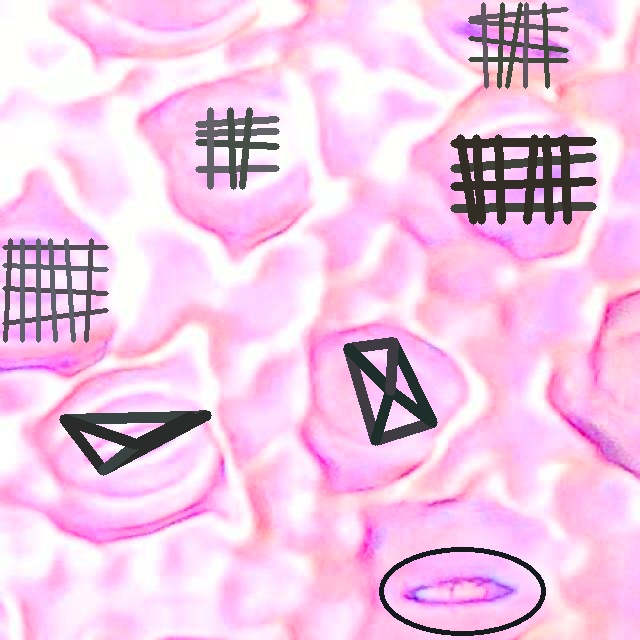open: (377, 546, 546, 636), (451, 135, 596, 224), (3, 238, 108, 342), (343, 337, 436, 444), (60, 412, 211, 475), (469, 3, 568, 88), (195, 107, 279, 189)
